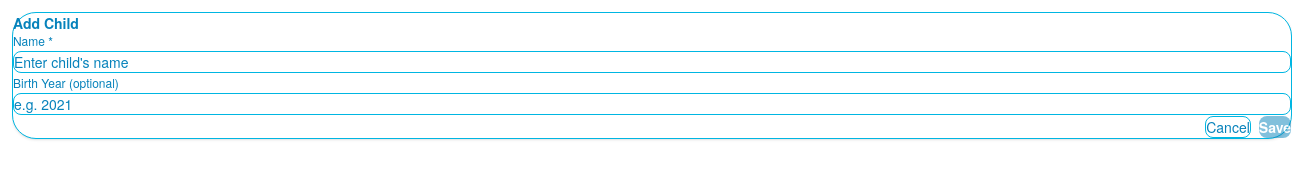
Test case: AddChildForm › save button is enabled when name is entered
The width and height of the screenshot is (1304, 172).
In the field with test id "child-name-input": (652, 62) [13,51,1291,73], type "Alice"
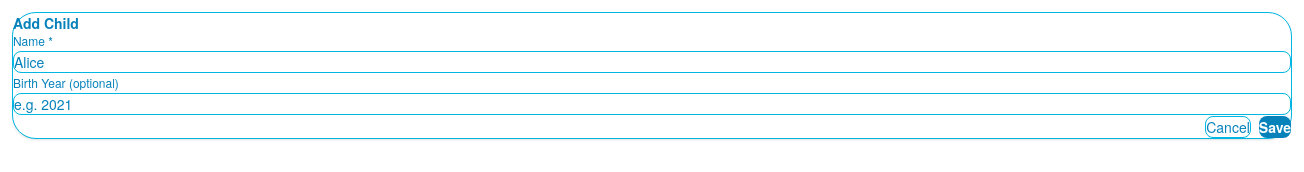
expect the button with test id "save-child-btn" is enabled: met, box [1259,116,1291,138]
